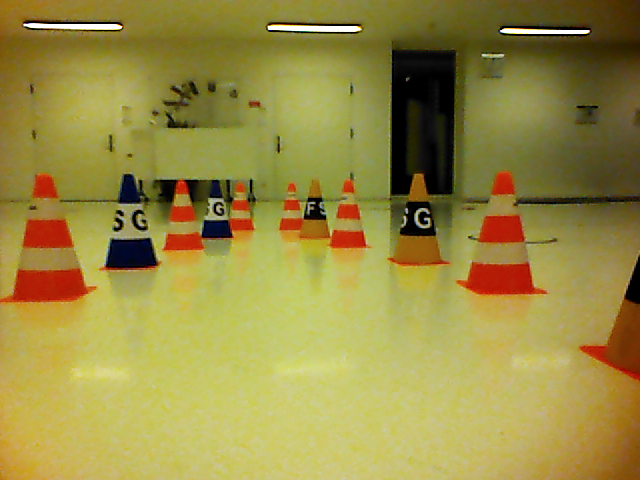bluecone: (107, 173, 156, 268), (203, 179, 232, 239)
orangeconesmall: (12, 172, 88, 302), (468, 172, 535, 292), (165, 180, 202, 249), (331, 179, 367, 246), (231, 183, 257, 230), (279, 183, 303, 230)
yellowcone: (394, 172, 443, 264), (301, 179, 330, 237)
